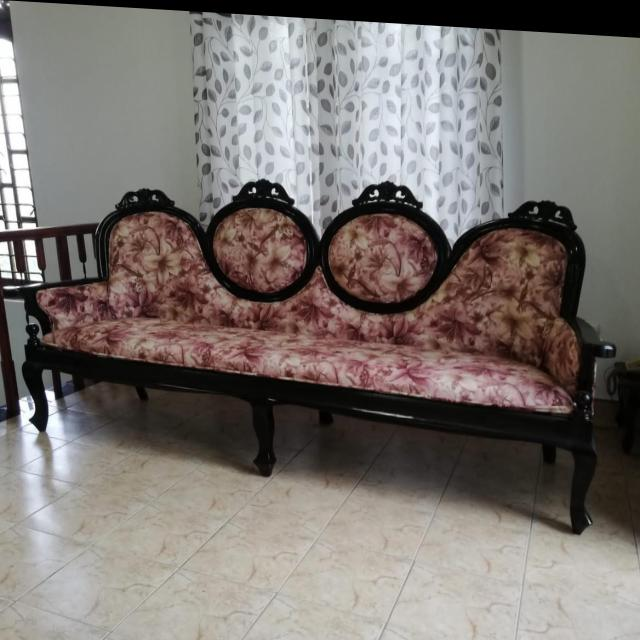Sofa: (16, 166, 618, 527)
